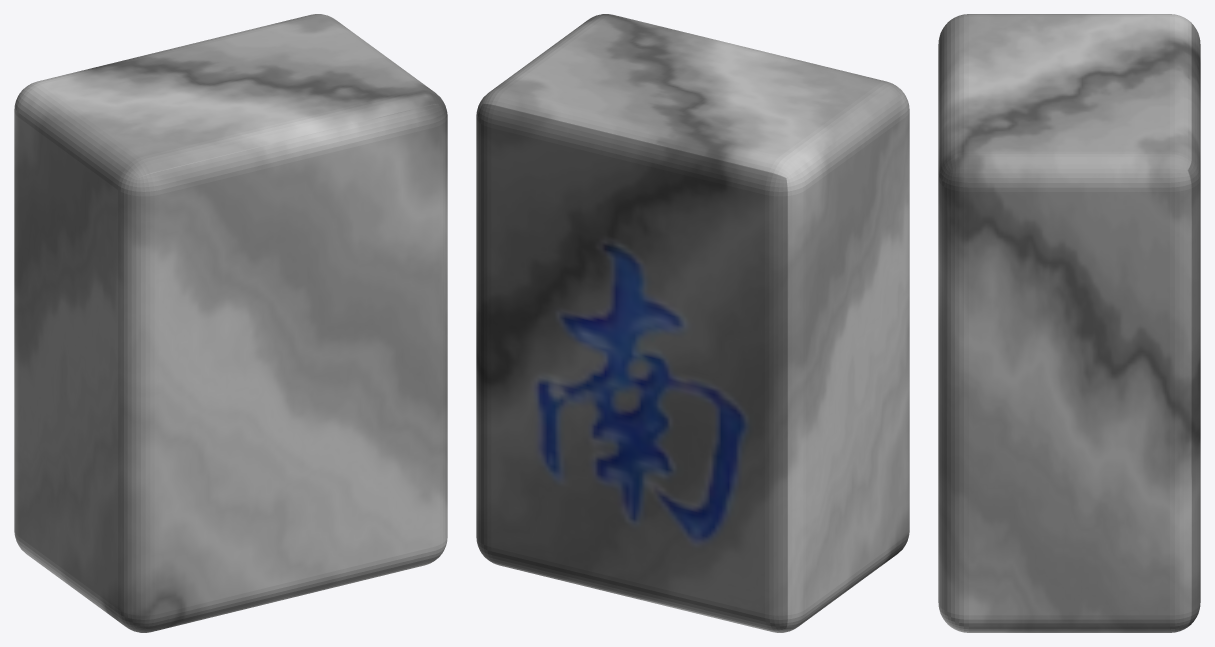
File: honor2.fbx
3 views of the same model, side by side, from view 1: azimuth 30°, elevation 25°; view 2: azimuth 150°, elevation 25°; view 3: azimuth 270°, elevation 25° (orthographic).
Visible parts, largest first — view 1: honor2; view 2: honor2; view 3: honor2.
Part boxes in pixels (bbox=[...]): honor2: bbox=[14, 14, 447, 632]; honor2: bbox=[476, 14, 909, 632]; honor2: bbox=[938, 14, 1200, 632].
Size of the model in its own units: 100 by 139 by 69.
Materials: 1 (1 with a texture image).
